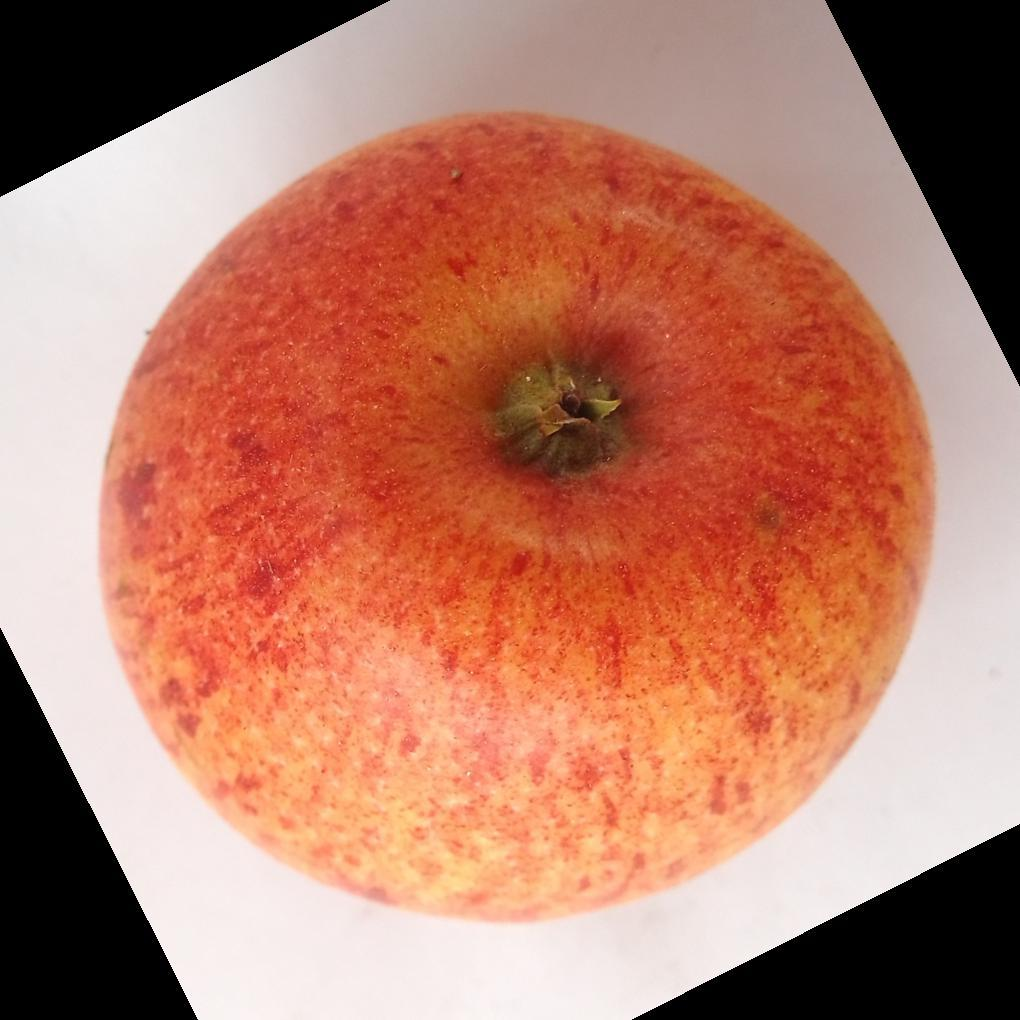FreshGuava: (93, 110, 939, 932)
